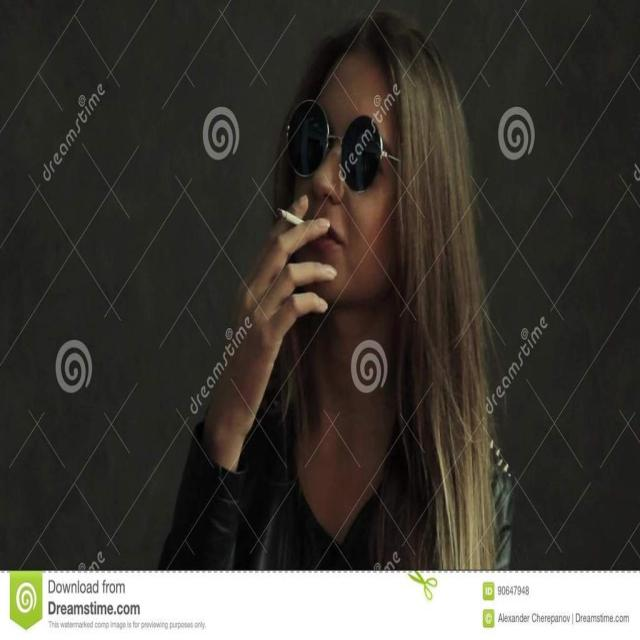smoking: (216, 21, 442, 442)
